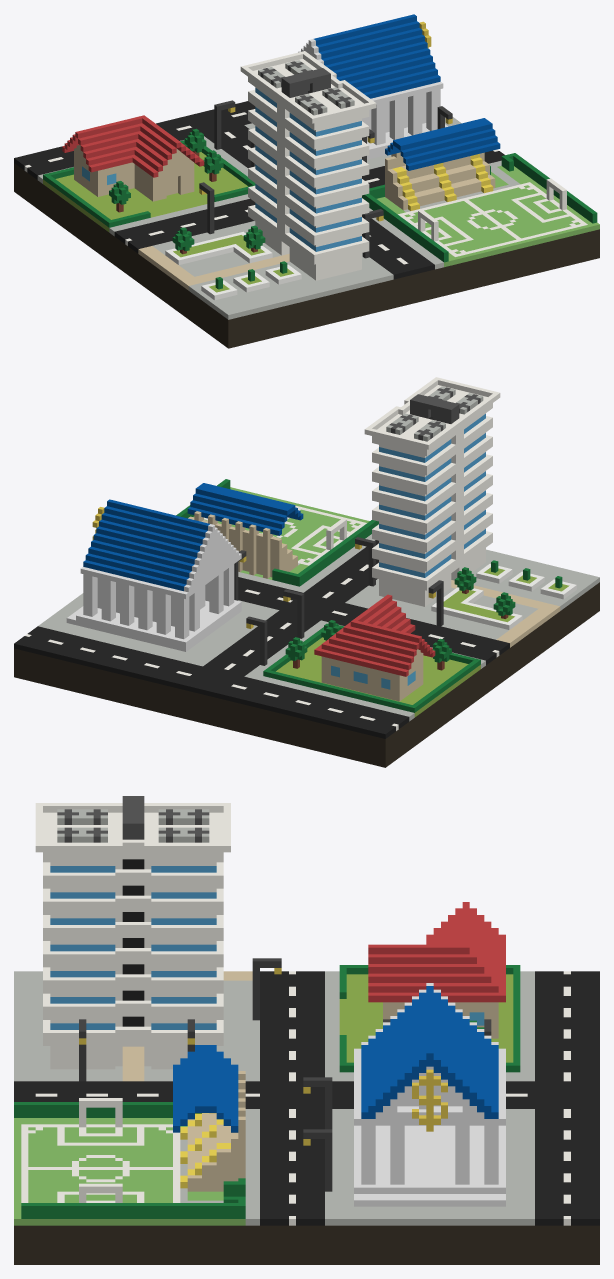
File: CitySnowy.glb
The picture shows the model from 3 angles, top to bottom: view 1: azimuth 30°, elevation 25°; view 2: azimuth 150°, elevation 25°; view 3: azimuth 270°, elevation 25°; orthographic projection. The views are drawn at different scales.
Parts seen in each view (by area): view 1: Untitled; view 2: Untitled; view 3: Untitled.
Boxes of the visible parts, x1,y1,x2,y2 form: Untitled: [14, 14, 599, 348]; Untitled: [14, 377, 599, 767]; Untitled: [14, 796, 599, 1264].
Size of the model in its own units: 8.1 by 4.4 by 8.1.
Materials: 1 (1 with a texture image).
